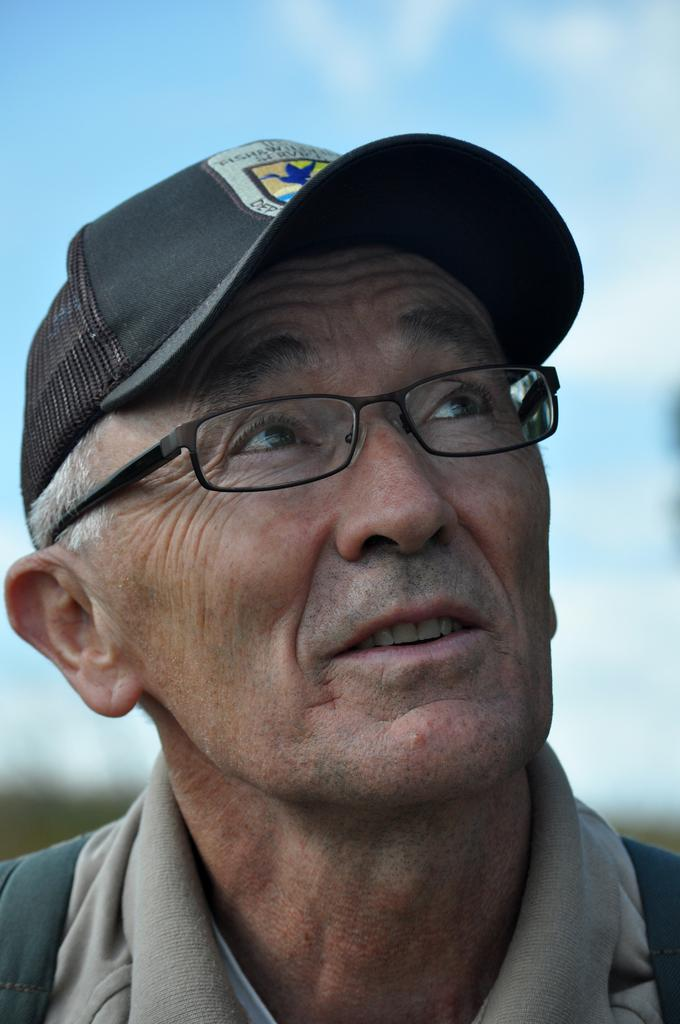Hat: (24, 132, 586, 512)
